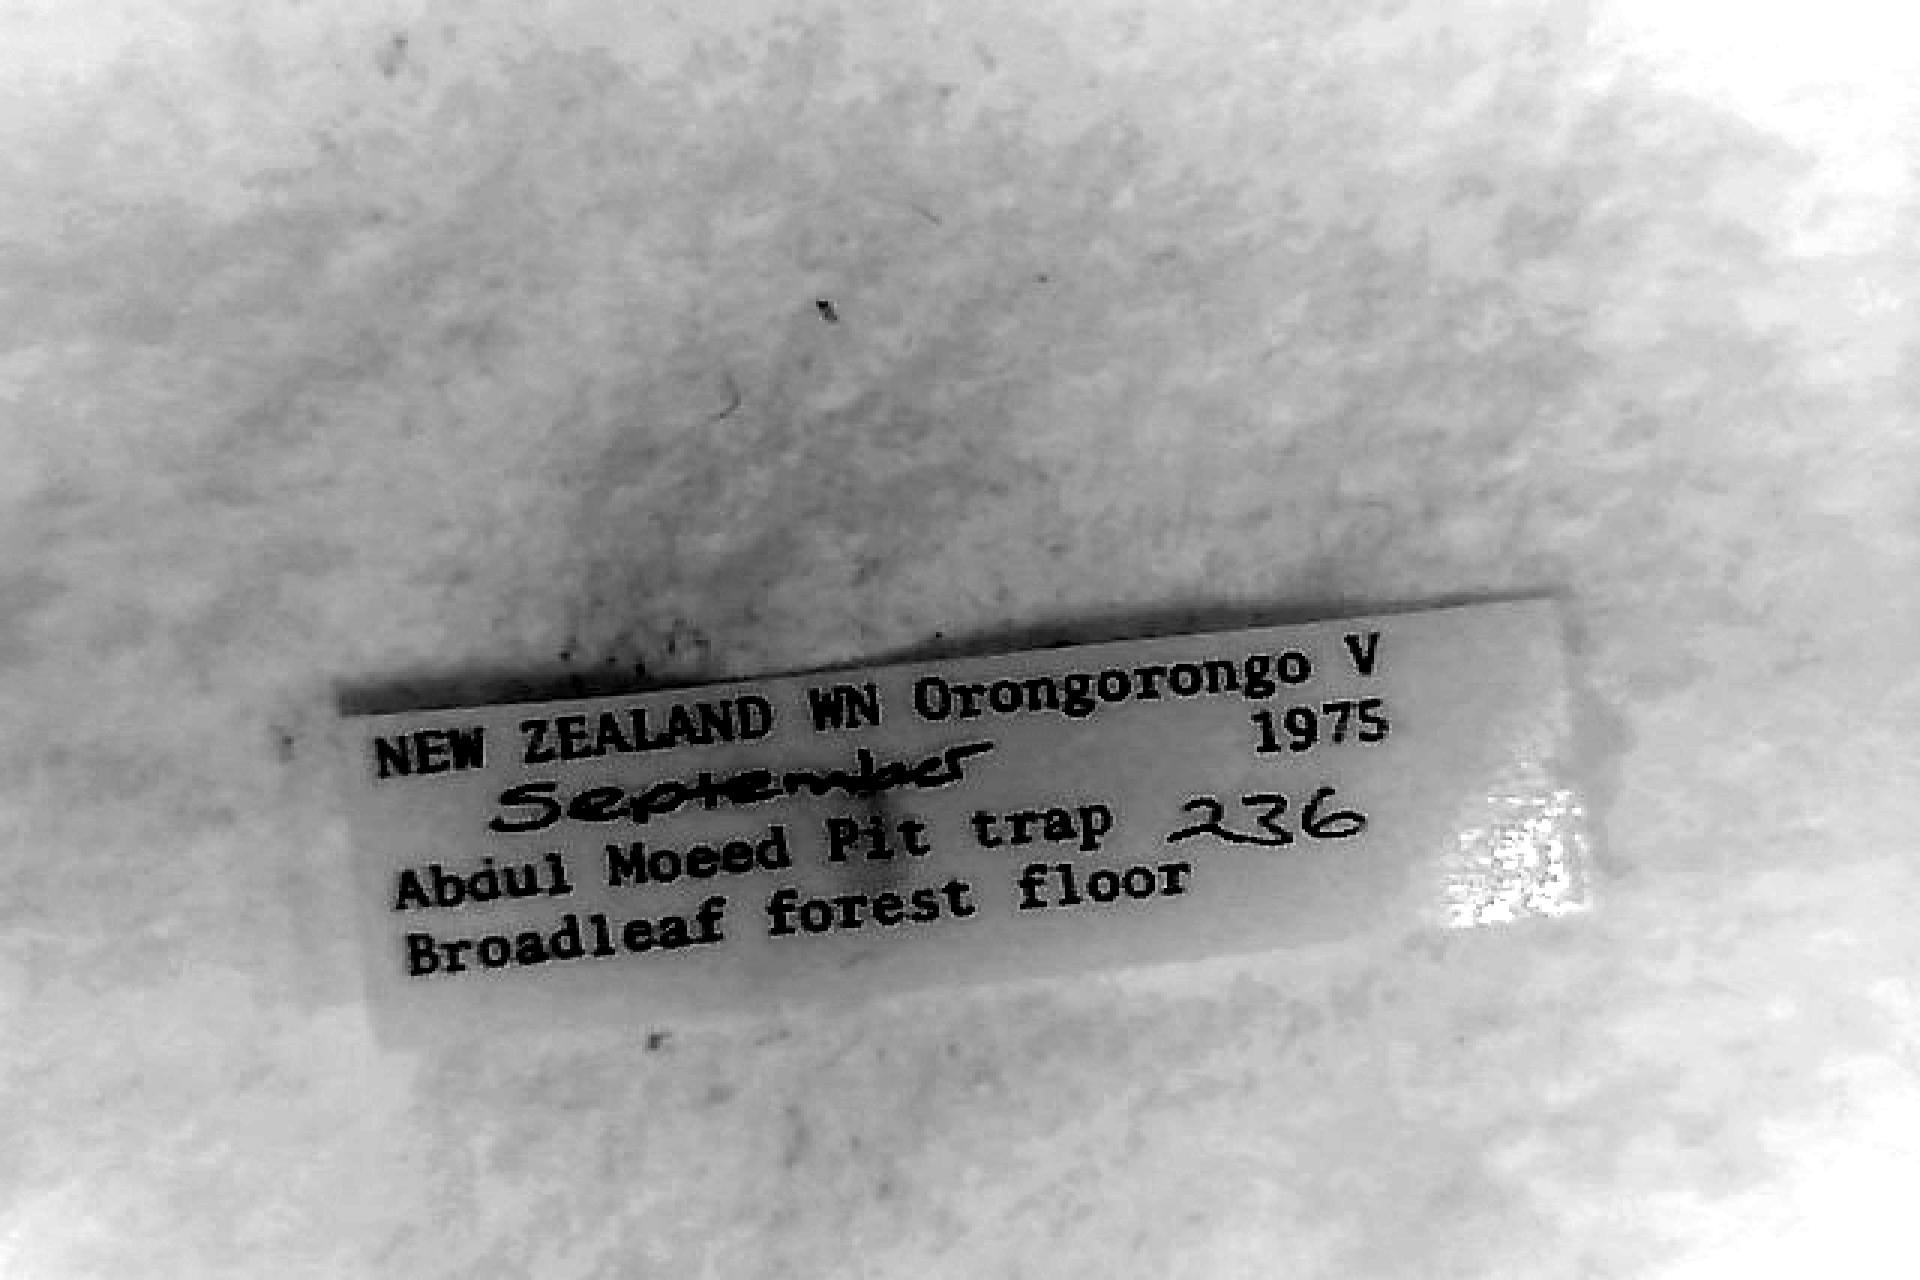mixed_label: (351, 600, 1582, 1033)
